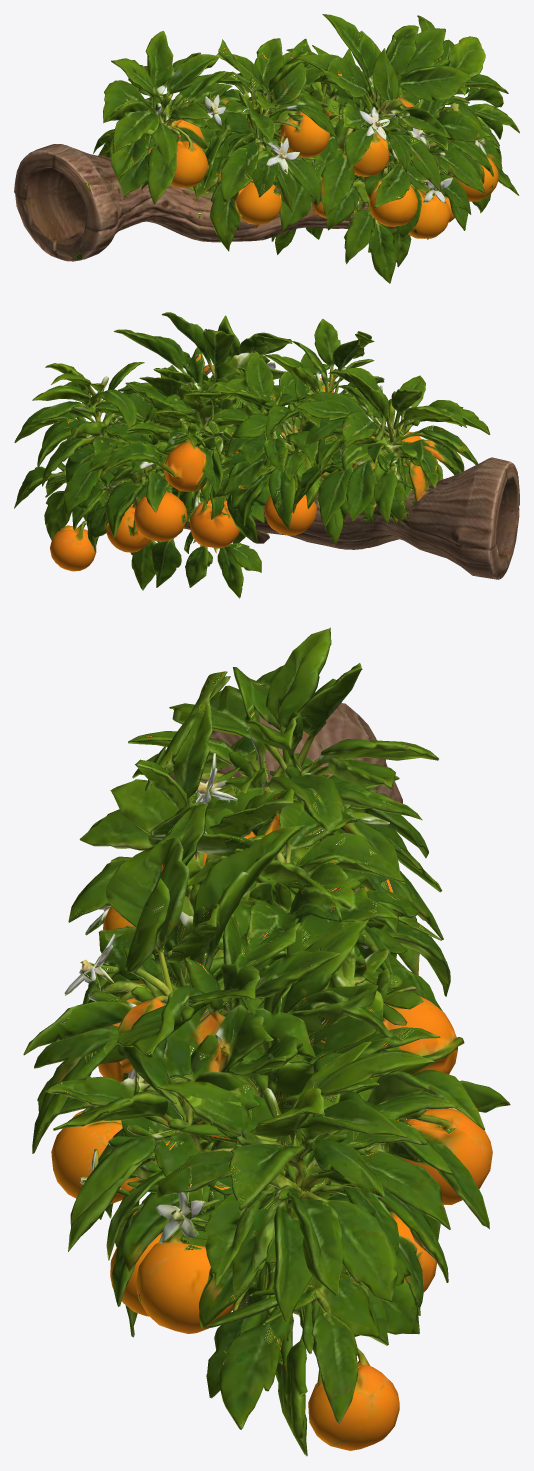
File: branch_orange.glb
3 views of the same model, one above another, from view 1: azimuth 30°, elevation 25°; view 2: azimuth 150°, elevation 25°; view 3: azimuth 270°, elevation 25° (orthographic). The views are drawn at different scales.
Size of the model in its own units: 1.9 by 1.1 by 0.845.
Materials: 1 (1 with a texture image).
